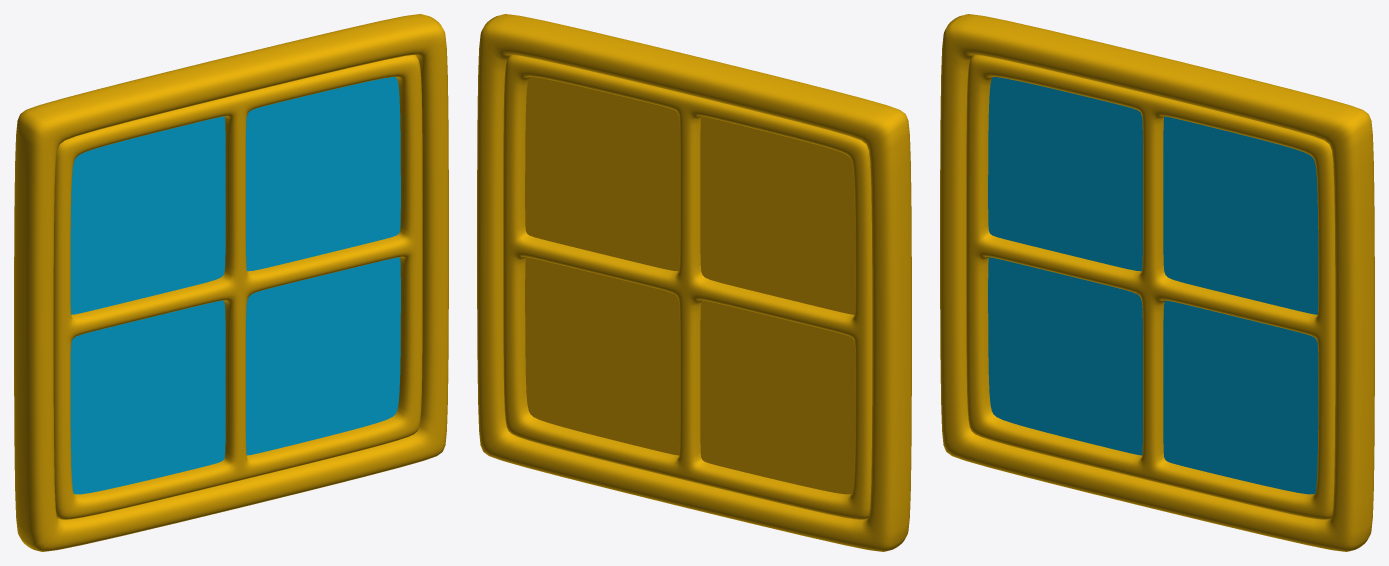
Rendered from cartoon_window.fbx.
3 renders of one model, left to right at view 1: azimuth 30°, elevation 25°; view 2: azimuth 150°, elevation 25°; view 3: azimuth 330°, elevation 25°, orthographic.
Parts seen in each view (by area): view 1: CW1a; view 2: CW1a; view 3: CW1a.
Part boxes in pixels (bbox=[...]): CW1a: bbox=[14, 14, 448, 551]; CW1a: bbox=[477, 14, 911, 551]; CW1a: bbox=[940, 14, 1374, 551].
Bounding box in the file's own units: 99.8 × 99.8 × 9.93.
